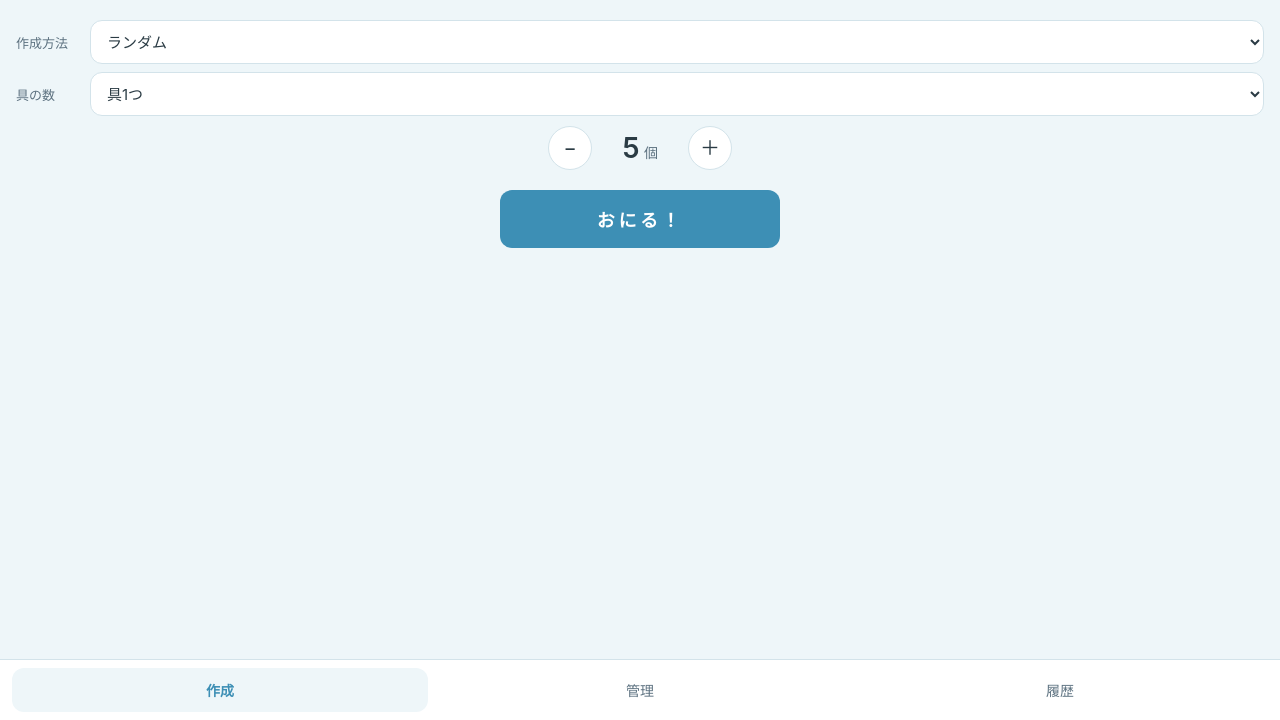
Test: App › 統合フロー: まわす→履歴に反映
Click the button "おにる！" at (640, 219), box left=500, top=190, right=780, bottom=248
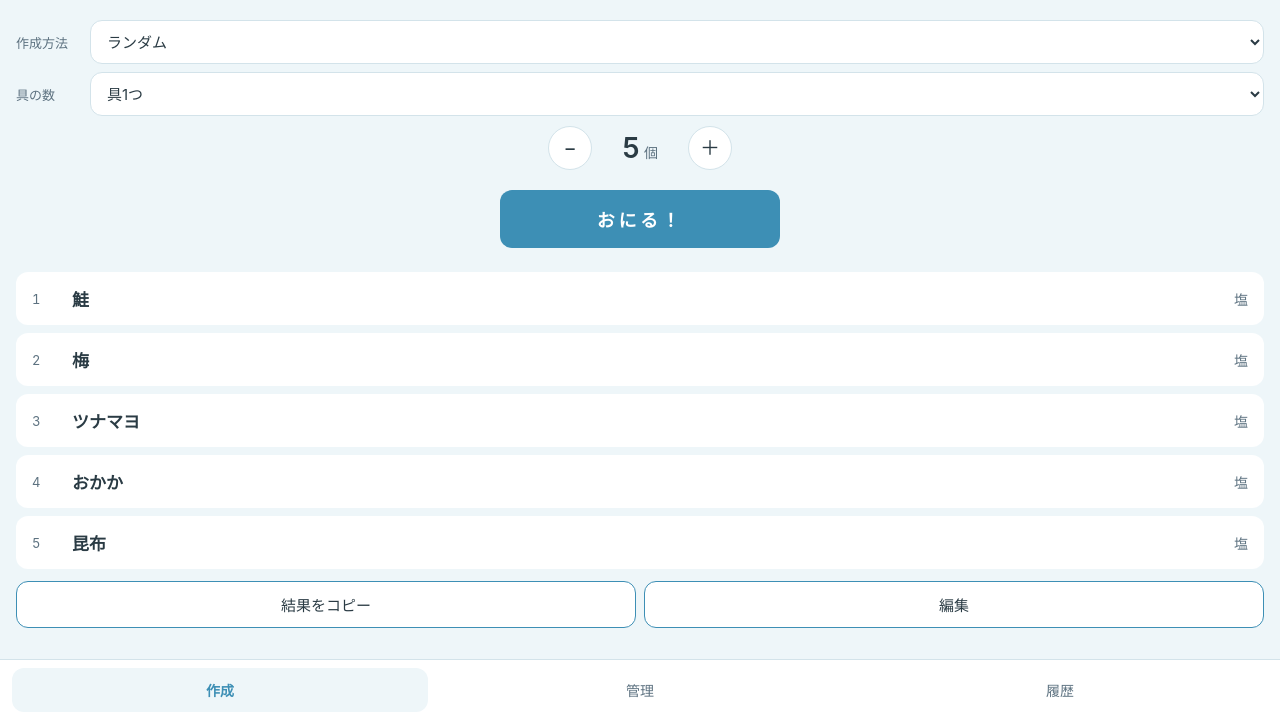
Click the tab "履歴" at (1060, 690), box left=852, top=668, right=1268, bottom=712
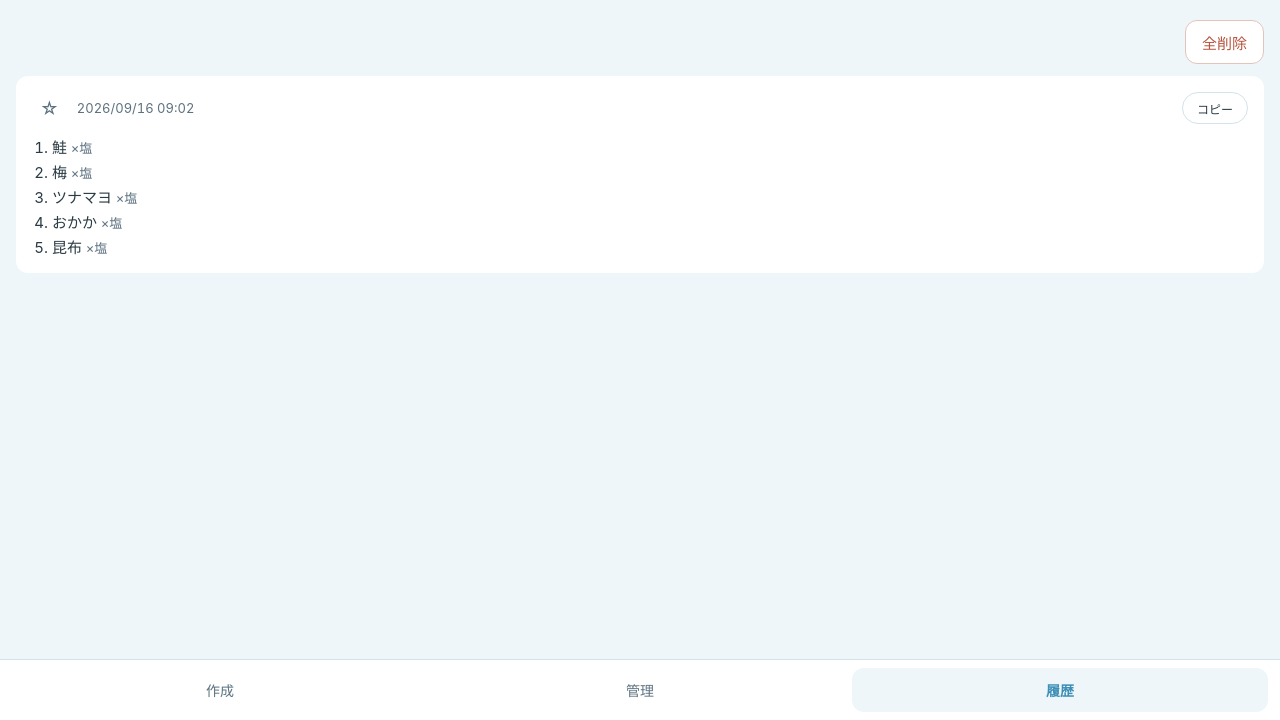
Expected: the list with class "history-results" is shown, left=52, top=138, right=137, bottom=257
Expected: the list with class "history-results" shows "鮭", left=52, top=138, right=67, bottom=157
Expected: the list with class "history-results" shows "梅", left=52, top=163, right=67, bottom=182
